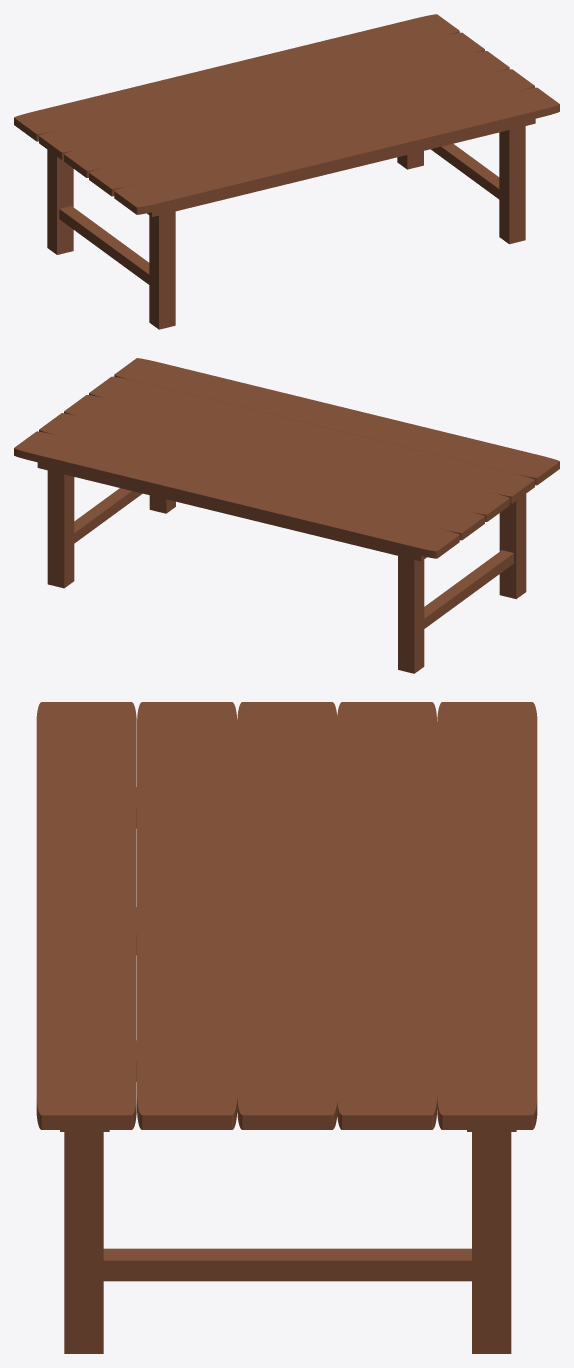
The model's file is craft_table.fbx.
The picture shows the model from 3 angles, top to bottom: view 1: azimuth 30°, elevation 25°; view 2: azimuth 150°, elevation 25°; view 3: azimuth 270°, elevation 25°; orthographic projection. The views are drawn at different scales.
Visible parts, largest first — view 1: Cube.036, Cube.035, Cube.032, Cube.034, Cube.033, Cube.046, Cube.042, Cube.043, Cube.040, Cube.047, Cube.048; view 2: Cube.032, Cube.036, Cube.035, Cube.033, Cube.034, Cube.045, Cube.043, Cube.041, Cube.046, Cube.047, Cube.048; view 3: Cube.032, Cube.036, Cube.035, Cube.033, Cube.034, Cube.048, Cube.042, Cube.045.
Boxes of the visible parts, bbox=[...] form: Cube.036: bbox=[114, 87, 559, 214]; Cube.035: bbox=[89, 69, 534, 196]; Cube.032: bbox=[14, 14, 459, 141]; Cube.034: bbox=[64, 51, 509, 177]; Cube.033: bbox=[39, 32, 484, 159]; Cube.046: bbox=[149, 211, 175, 329]; Cube.042: bbox=[499, 126, 525, 244]; Cube.043: bbox=[47, 149, 73, 254]; Cube.040: bbox=[147, 119, 535, 216]; Cube.047: bbox=[59, 206, 149, 284]; Cube.048: bbox=[431, 143, 499, 199]; Cube.032: bbox=[14, 431, 459, 558]; Cube.036: bbox=[114, 358, 559, 485]; Cube.035: bbox=[89, 376, 534, 503]; Cube.033: bbox=[39, 413, 484, 540]; Cube.034: bbox=[64, 395, 509, 521]; Cube.045: bbox=[47, 470, 74, 588]; Cube.043: bbox=[398, 556, 424, 673]; Cube.041: bbox=[37, 462, 426, 561]; Cube.046: bbox=[499, 494, 526, 599]; Cube.047: bbox=[424, 550, 513, 628]; Cube.048: bbox=[74, 488, 142, 543]; Cube.032: bbox=[437, 702, 537, 1129]; Cube.036: bbox=[36, 702, 136, 1129]; Cube.035: bbox=[137, 702, 237, 1129]; Cube.033: bbox=[337, 702, 437, 1129]; Cube.034: bbox=[237, 702, 337, 1129]; Cube.048: bbox=[103, 1248, 471, 1281]; Cube.042: bbox=[64, 1132, 103, 1353]; Cube.045: bbox=[472, 1132, 511, 1353].
Size of the model in its own units: 791 by 238 by 405.
